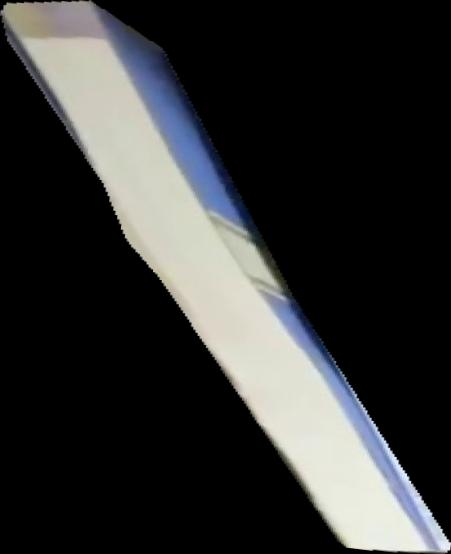backward: (1, 1, 451, 554)
